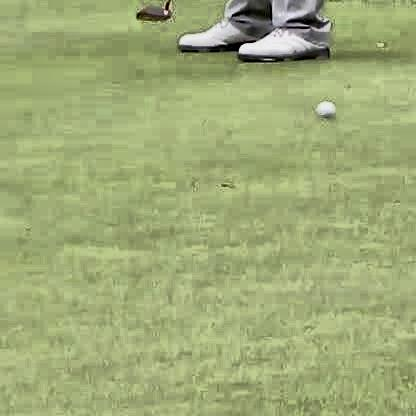golfball: (314, 97, 333, 116)
